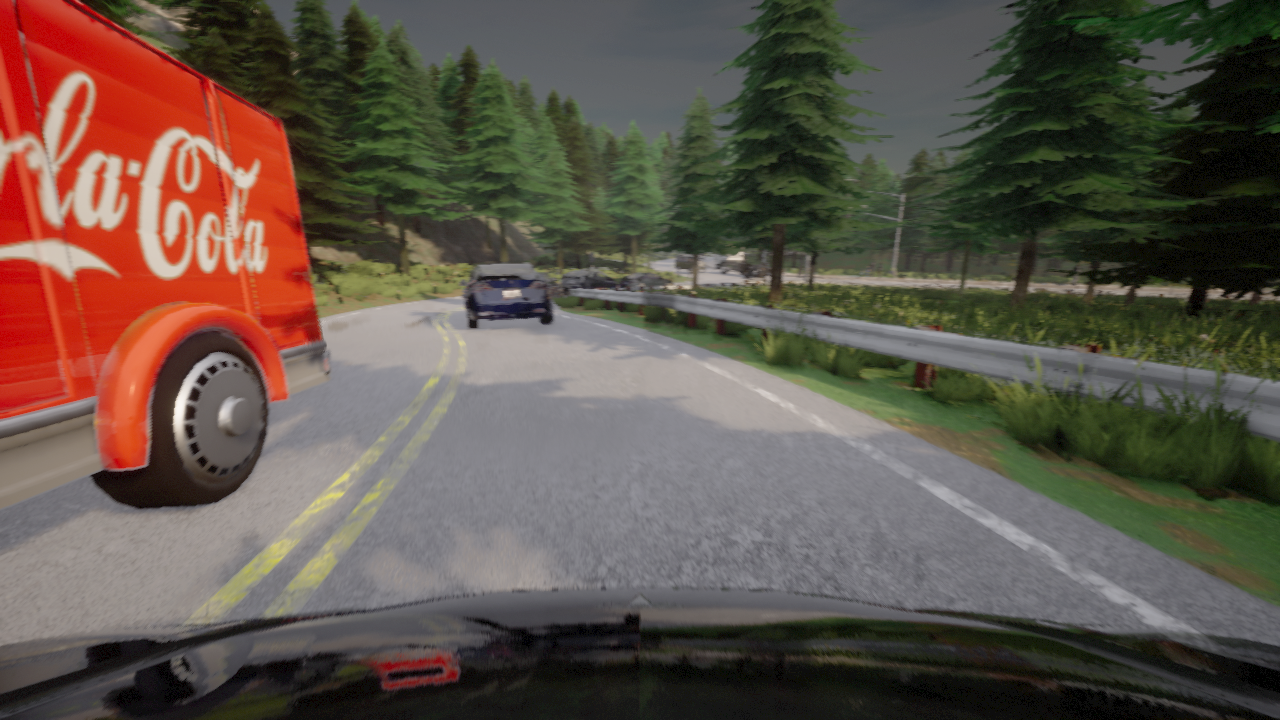cyclist: (0, 588, 1279, 719), (459, 263, 552, 329), (714, 244, 770, 278), (561, 271, 617, 296), (619, 272, 673, 286), (536, 273, 562, 297), (674, 254, 706, 273), (702, 254, 705, 260)
pedestrian: (1072, 263, 1080, 285)
